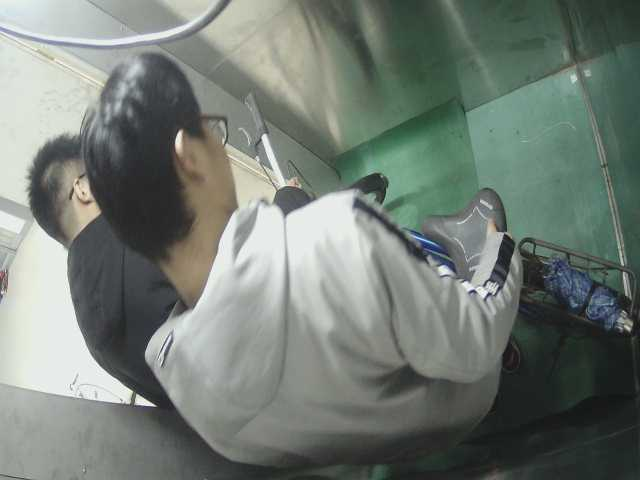bicycle: (241, 81, 638, 355)
person: (76, 46, 532, 469), (23, 129, 234, 425)
